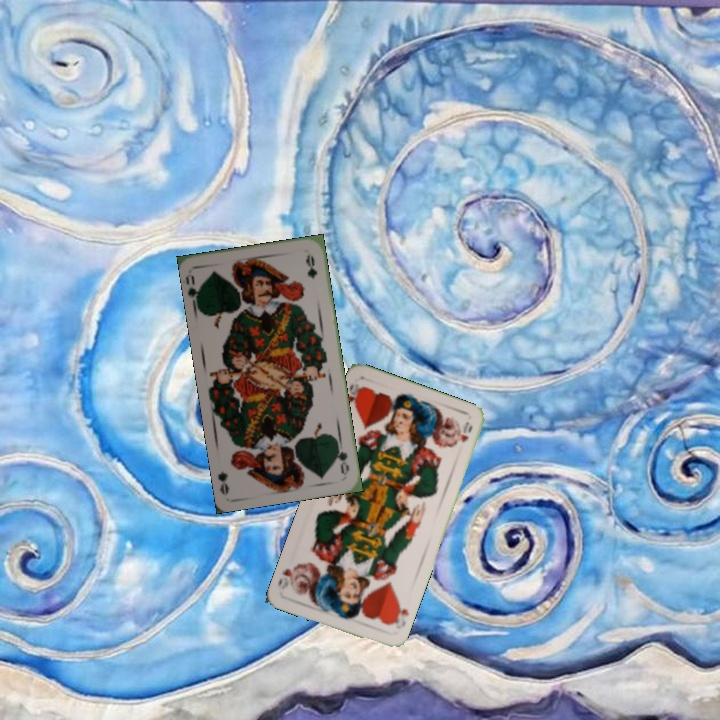GO: (333, 437, 352, 477), (185, 272, 204, 310)
HO: (386, 596, 412, 632), (342, 379, 366, 410)
